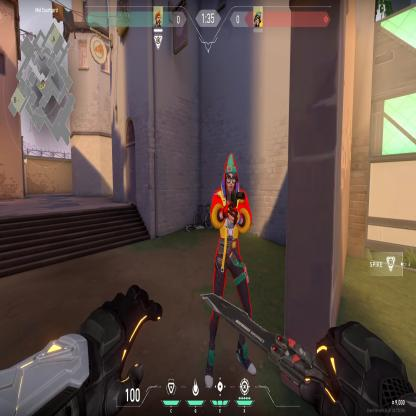enemy: (207, 148, 250, 302)
